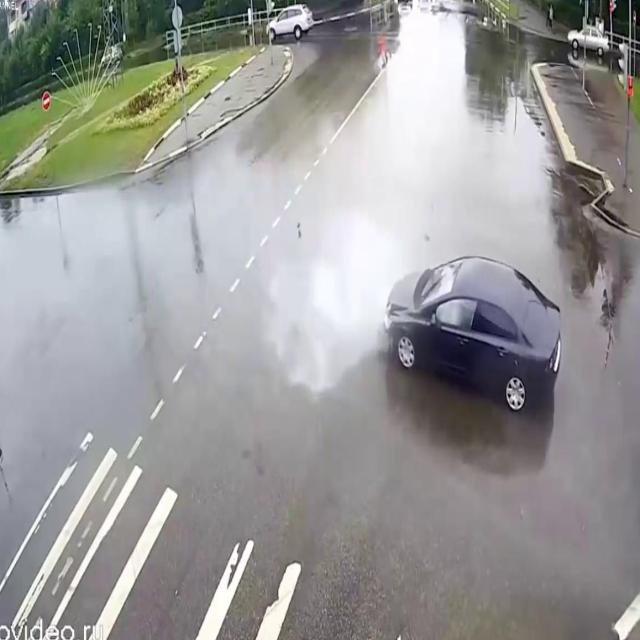accident: (303, 199, 577, 429)
